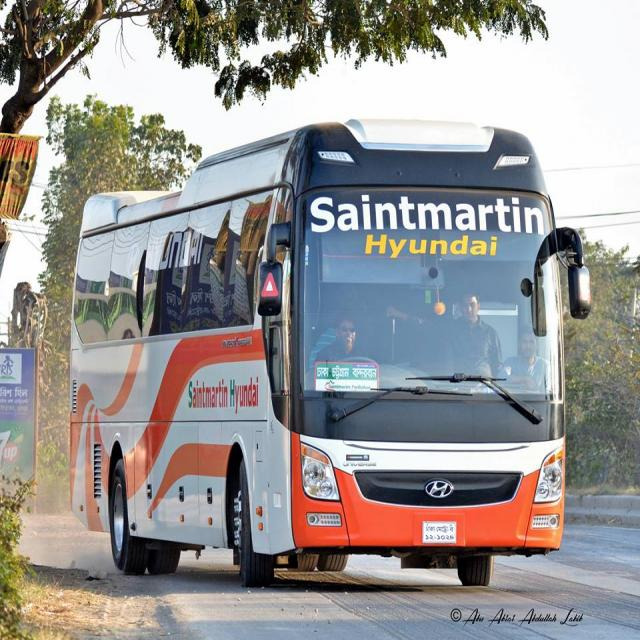bus: (68, 115, 595, 589)
